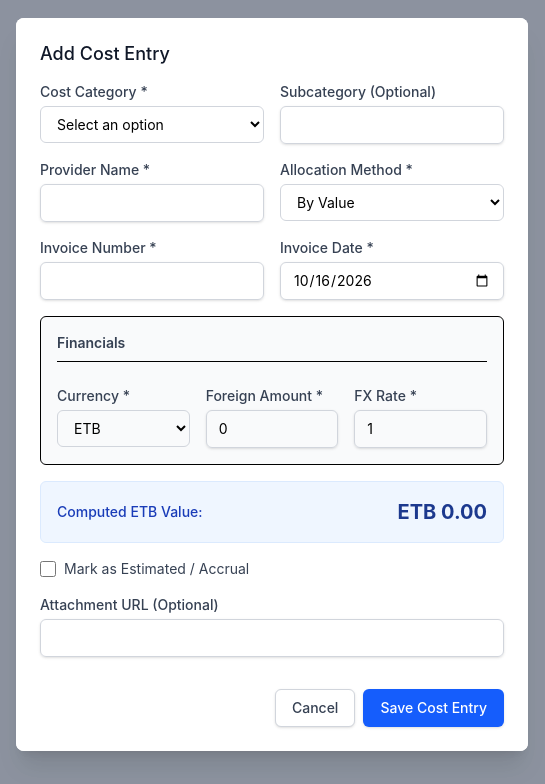
it: AddCostEntryForm › displays FX tolerance warning when rate diverges >5%
Select "USD" in the dropdown named "currency" at x=123, y=428, box [57,410,190,446]
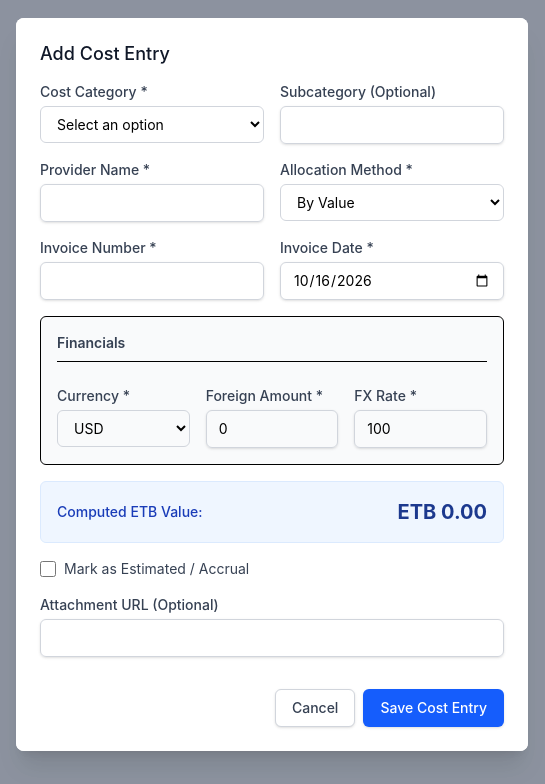
Expected: the text "Warning: Rate differs by >5% from official NBE rate" is not shown
Expected: the number field named "fxRate" holds "100"
Replace the text in the number field labelled "FX Rate *" with "106" at x=421, y=428, box [354,410,487,448]
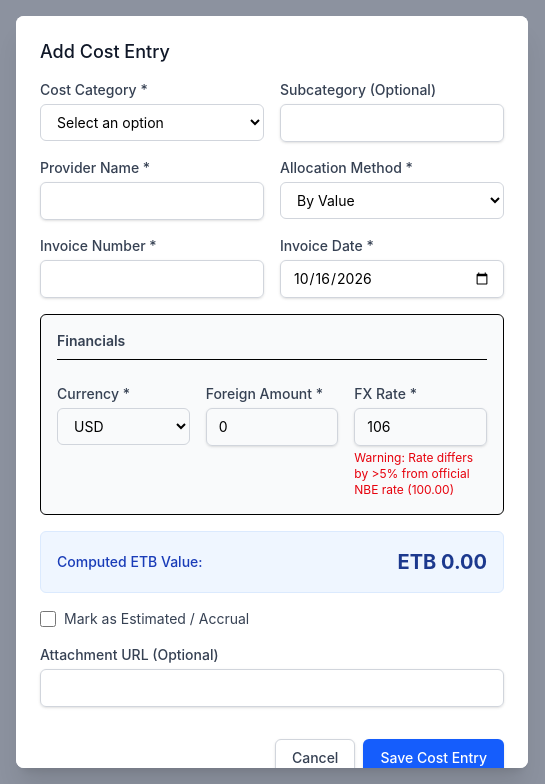
Expected: the text "Warning: Rate differs by >5% from official NBE rate (100.00)" is shown, [354,450,487,498]
